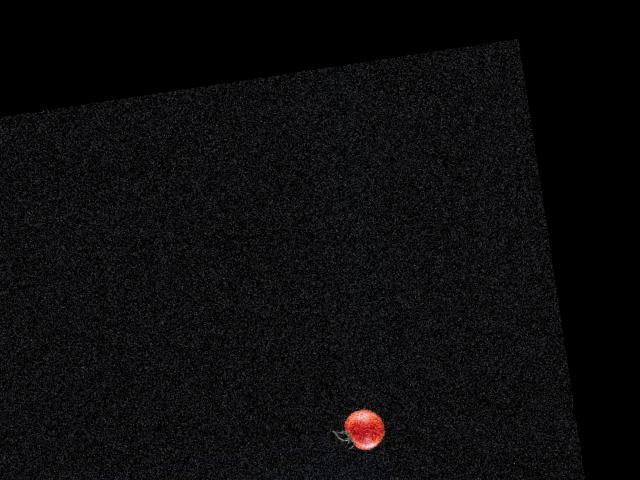tomato: (341, 406, 387, 452)
